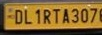character: (89, 6, 97, 23), (14, 9, 23, 24), (80, 7, 89, 22), (24, 8, 32, 24), (43, 8, 51, 24), (52, 7, 60, 23), (62, 8, 70, 24), (71, 7, 79, 23), (35, 8, 41, 24)
